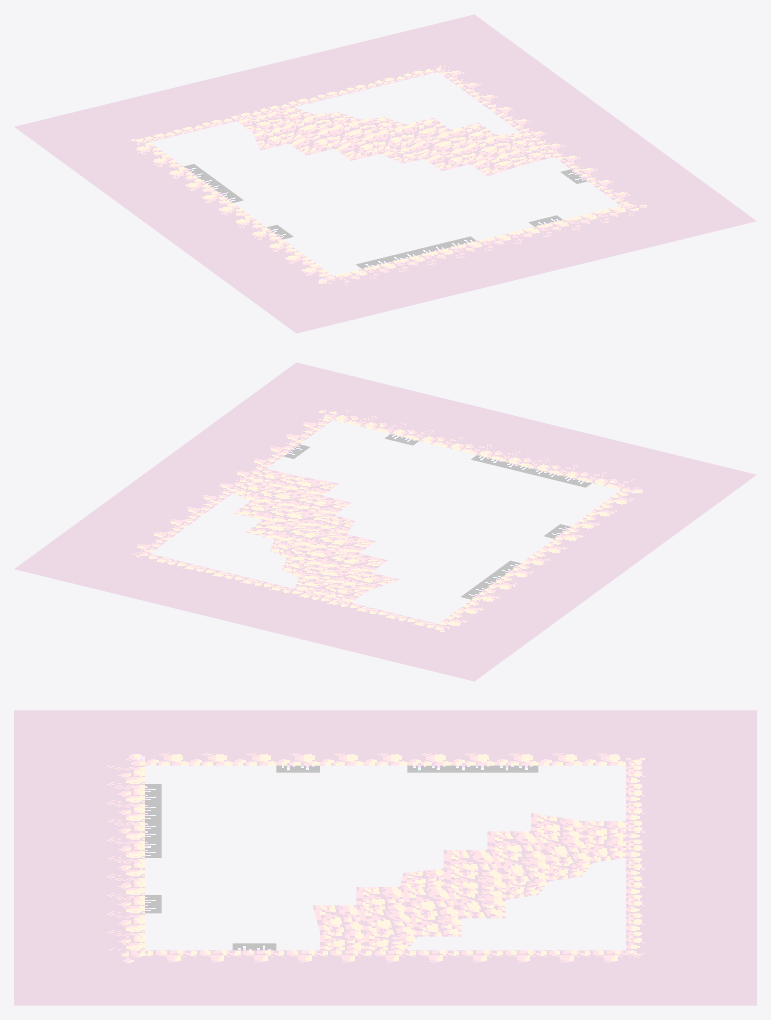
The picture shows the model from 3 angles, top to bottom: view 1: azimuth 30°, elevation 25°; view 2: azimuth 150°, elevation 25°; view 3: azimuth 270°, elevation 25°; orthographic projection. The views are drawn at different scales.
Parts seen in each view (by area): view 1: Cube; view 2: Cube; view 3: Cube.
Part boxes in pixels (box(x1,y1,x2,y2)): Cube: box(14, 14, 756, 333); Cube: box(14, 362, 756, 681); Cube: box(14, 710, 756, 1005).
Size of the model in its own units: 8 by 0 by 8.5.
